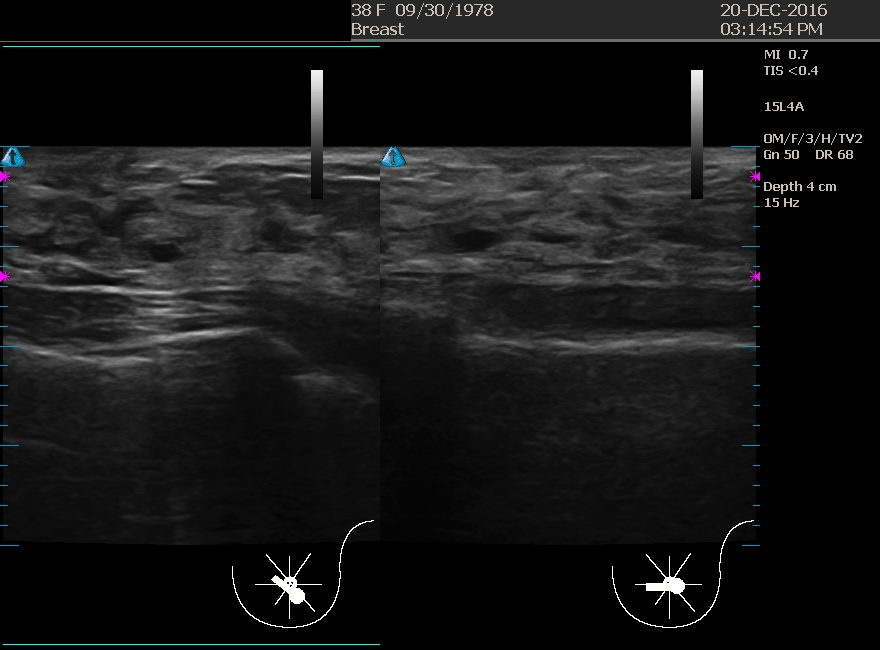BIRADS_2: (30, 163, 230, 364), (437, 155, 637, 355)
